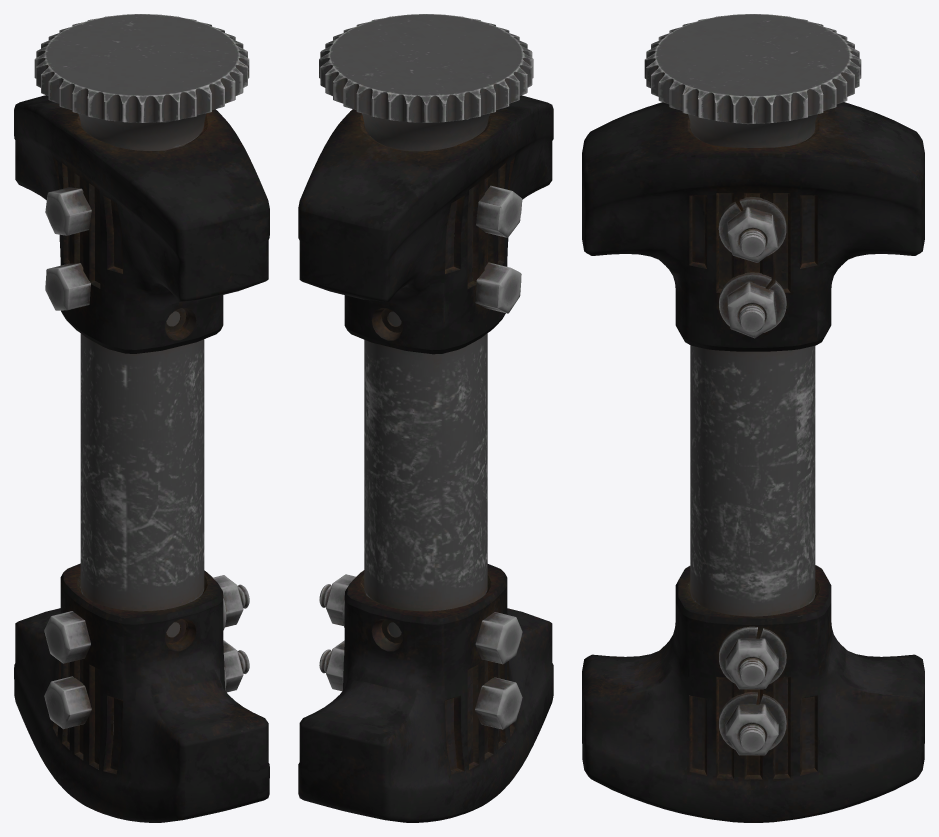
File: Neck_Hammer_1.glb
3 renders of one model, left to right at view 1: azimuth 30°, elevation 25°; view 2: azimuth 150°, elevation 25°; view 3: azimuth 270°, elevation 25°, orthographic.
Parts seen in each view (by area): view 1: Neck_Hammer_1_LOD0; view 2: Neck_Hammer_1_LOD0; view 3: Neck_Hammer_1_LOD0.
Part boxes in pixels (bbox=[...]): Neck_Hammer_1_LOD0: bbox=[14, 14, 269, 822]; Neck_Hammer_1_LOD0: bbox=[298, 14, 553, 822]; Neck_Hammer_1_LOD0: bbox=[582, 14, 924, 822].
Size of the model in its own units: 0.051 by 0.1824 by 0.0771.
1 material, 1 textured.
